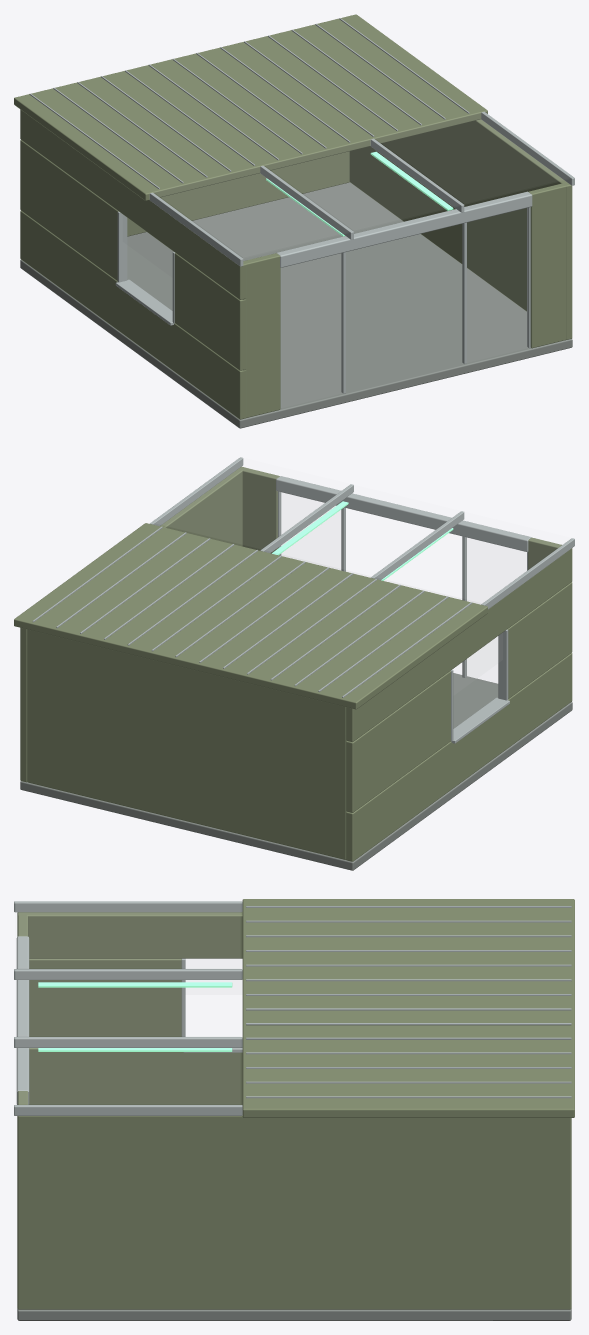
The model's file is mountain-border-checkpoint-mountain-border-checkpoint--693cd4d1__30288.glb.
The picture shows the model from 3 angles, top to bottom: view 1: azimuth 30°, elevation 25°; view 2: azimuth 150°, elevation 25°; view 3: azimuth 270°, elevation 25°; orthographic projection. The views are drawn at different scales.
Visible parts, largest first — view 1: mountain-border-checkpoint-roofed-passport-hall; view 2: mountain-border-checkpoint-roofed-passport-hall; view 3: mountain-border-checkpoint-roofed-passport-hall.
Part boxes in pixels (box(x1,y1,x2,y2)): mountain-border-checkpoint-roofed-passport-hall: box(14, 14, 574, 428); mountain-border-checkpoint-roofed-passport-hall: box(14, 457, 574, 870); mountain-border-checkpoint-roofed-passport-hall: box(14, 899, 574, 1320).
Bounding box in the file's own units: 7.2 × 3.45 × 8.1.
